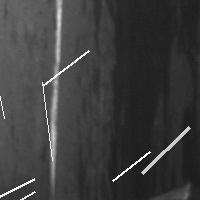scratches: (83, 1, 185, 196), (45, 1, 66, 194), (137, 122, 194, 178), (38, 45, 94, 90), (108, 146, 155, 185), (37, 77, 57, 165), (0, 174, 39, 200), (0, 187, 39, 200), (0, 67, 9, 123)
